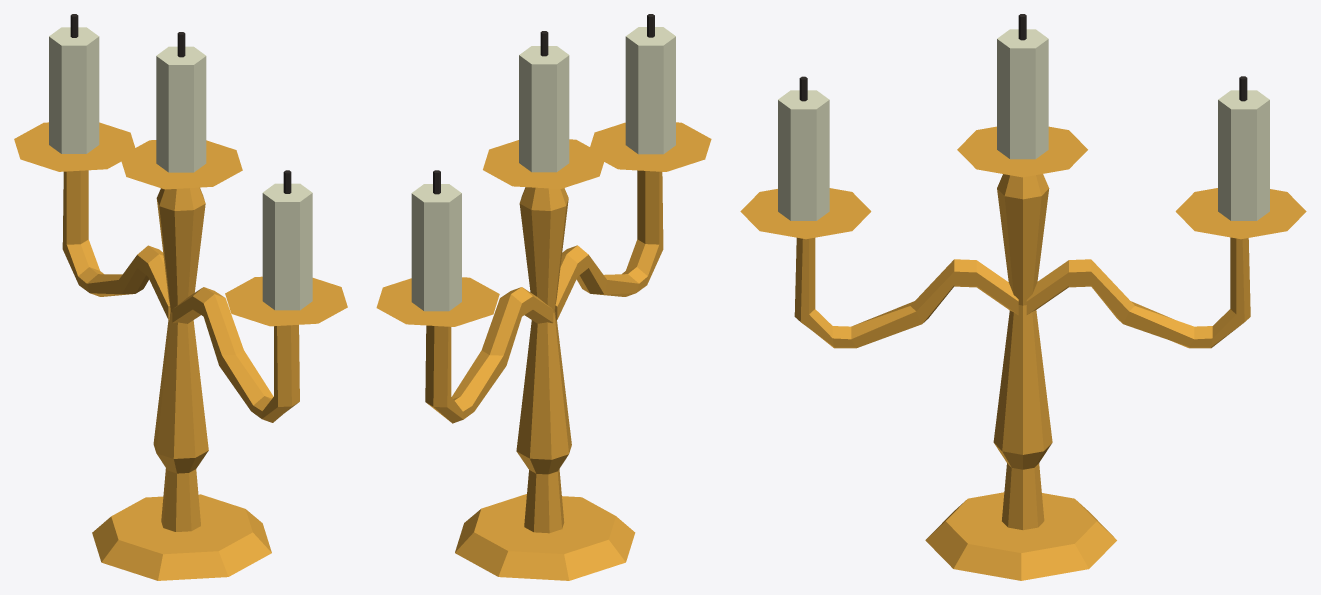
Rendered from Candelabra.fbx.
3 renders of one model, left to right at view 1: azimuth 30°, elevation 25°; view 2: azimuth 150°, elevation 25°; view 3: azimuth 270°, elevation 25°, orthographic. The views are drawn at different scales.
Visible parts, largest first — view 1: Cylinder, Cone, Cylinder.001, Cylinder.003, Cylinder.005, Cylinder.004, Cylinder.002, Cone.003, Cone.001, Cone.002; view 2: Cylinder, Cone, Cylinder.002, Cylinder.003, Cylinder.005, Cylinder.004, Cylinder.001, Cone.003, Cone.002, Cone.001; view 3: Cylinder, Cone, Cylinder.001, Cylinder.002, Cylinder.005, Cylinder.003, Cylinder.004, Cone.003, Cone.001, Cone.002.
Part boxes in pixels (left/top/right/bottom): Cylinder: left=153, top=187, right=208, bottom=531; Cone: left=92, top=494, right=271, bottom=580; Cylinder.001: left=172, top=287, right=299, bottom=422; Cylinder.003: left=262, top=183, right=312, bottom=310; Cylinder.005: left=49, top=27, right=99, bottom=153; Cylinder.004: left=156, top=46, right=206, bottom=172; Cylinder.002: left=62, top=170, right=170, bottom=320; Cone.003: left=120, top=140, right=242, bottom=189; Cone.001: left=225, top=276, right=347, bottom=326; Cone.002: left=14, top=122, right=135, bottom=171; Cylinder: left=516, top=187, right=571, bottom=533; Cone: left=455, top=494, right=635, bottom=580; Cylinder.002: left=425, top=287, right=553, bottom=423; Cylinder.003: left=625, top=27, right=675, bottom=154; Cylinder.005: left=411, top=184, right=461, bottom=311; Cylinder.004: left=519, top=46, right=569, bottom=172; Cylinder.001: left=555, top=170, right=663, bottom=320; Cone.003: left=483, top=139, right=605, bottom=188; Cone.002: left=376, top=277, right=499, bottom=326; Cone.001: left=590, top=122, right=711, bottom=171; Cylinder: left=993, top=174, right=1052, bottom=530; Cone: left=925, top=492, right=1116, bottom=580; Cylinder.001: left=794, top=237, right=1018, bottom=348; Cylinder.002: left=1026, top=237, right=1250, bottom=348; Cylinder.005: left=1218, top=90, right=1269, bottom=220; Cylinder.003: left=778, top=90, right=829, bottom=220; Cylinder.004: left=997, top=29, right=1048, bottom=159; Cone.003: left=957, top=126, right=1087, bottom=177; Cone.001: left=740, top=188, right=871, bottom=239; Cone.002: left=1175, top=188, right=1306, bottom=239.
Size of the model in its own units: 26.97 by 81.32 by 79.49.
